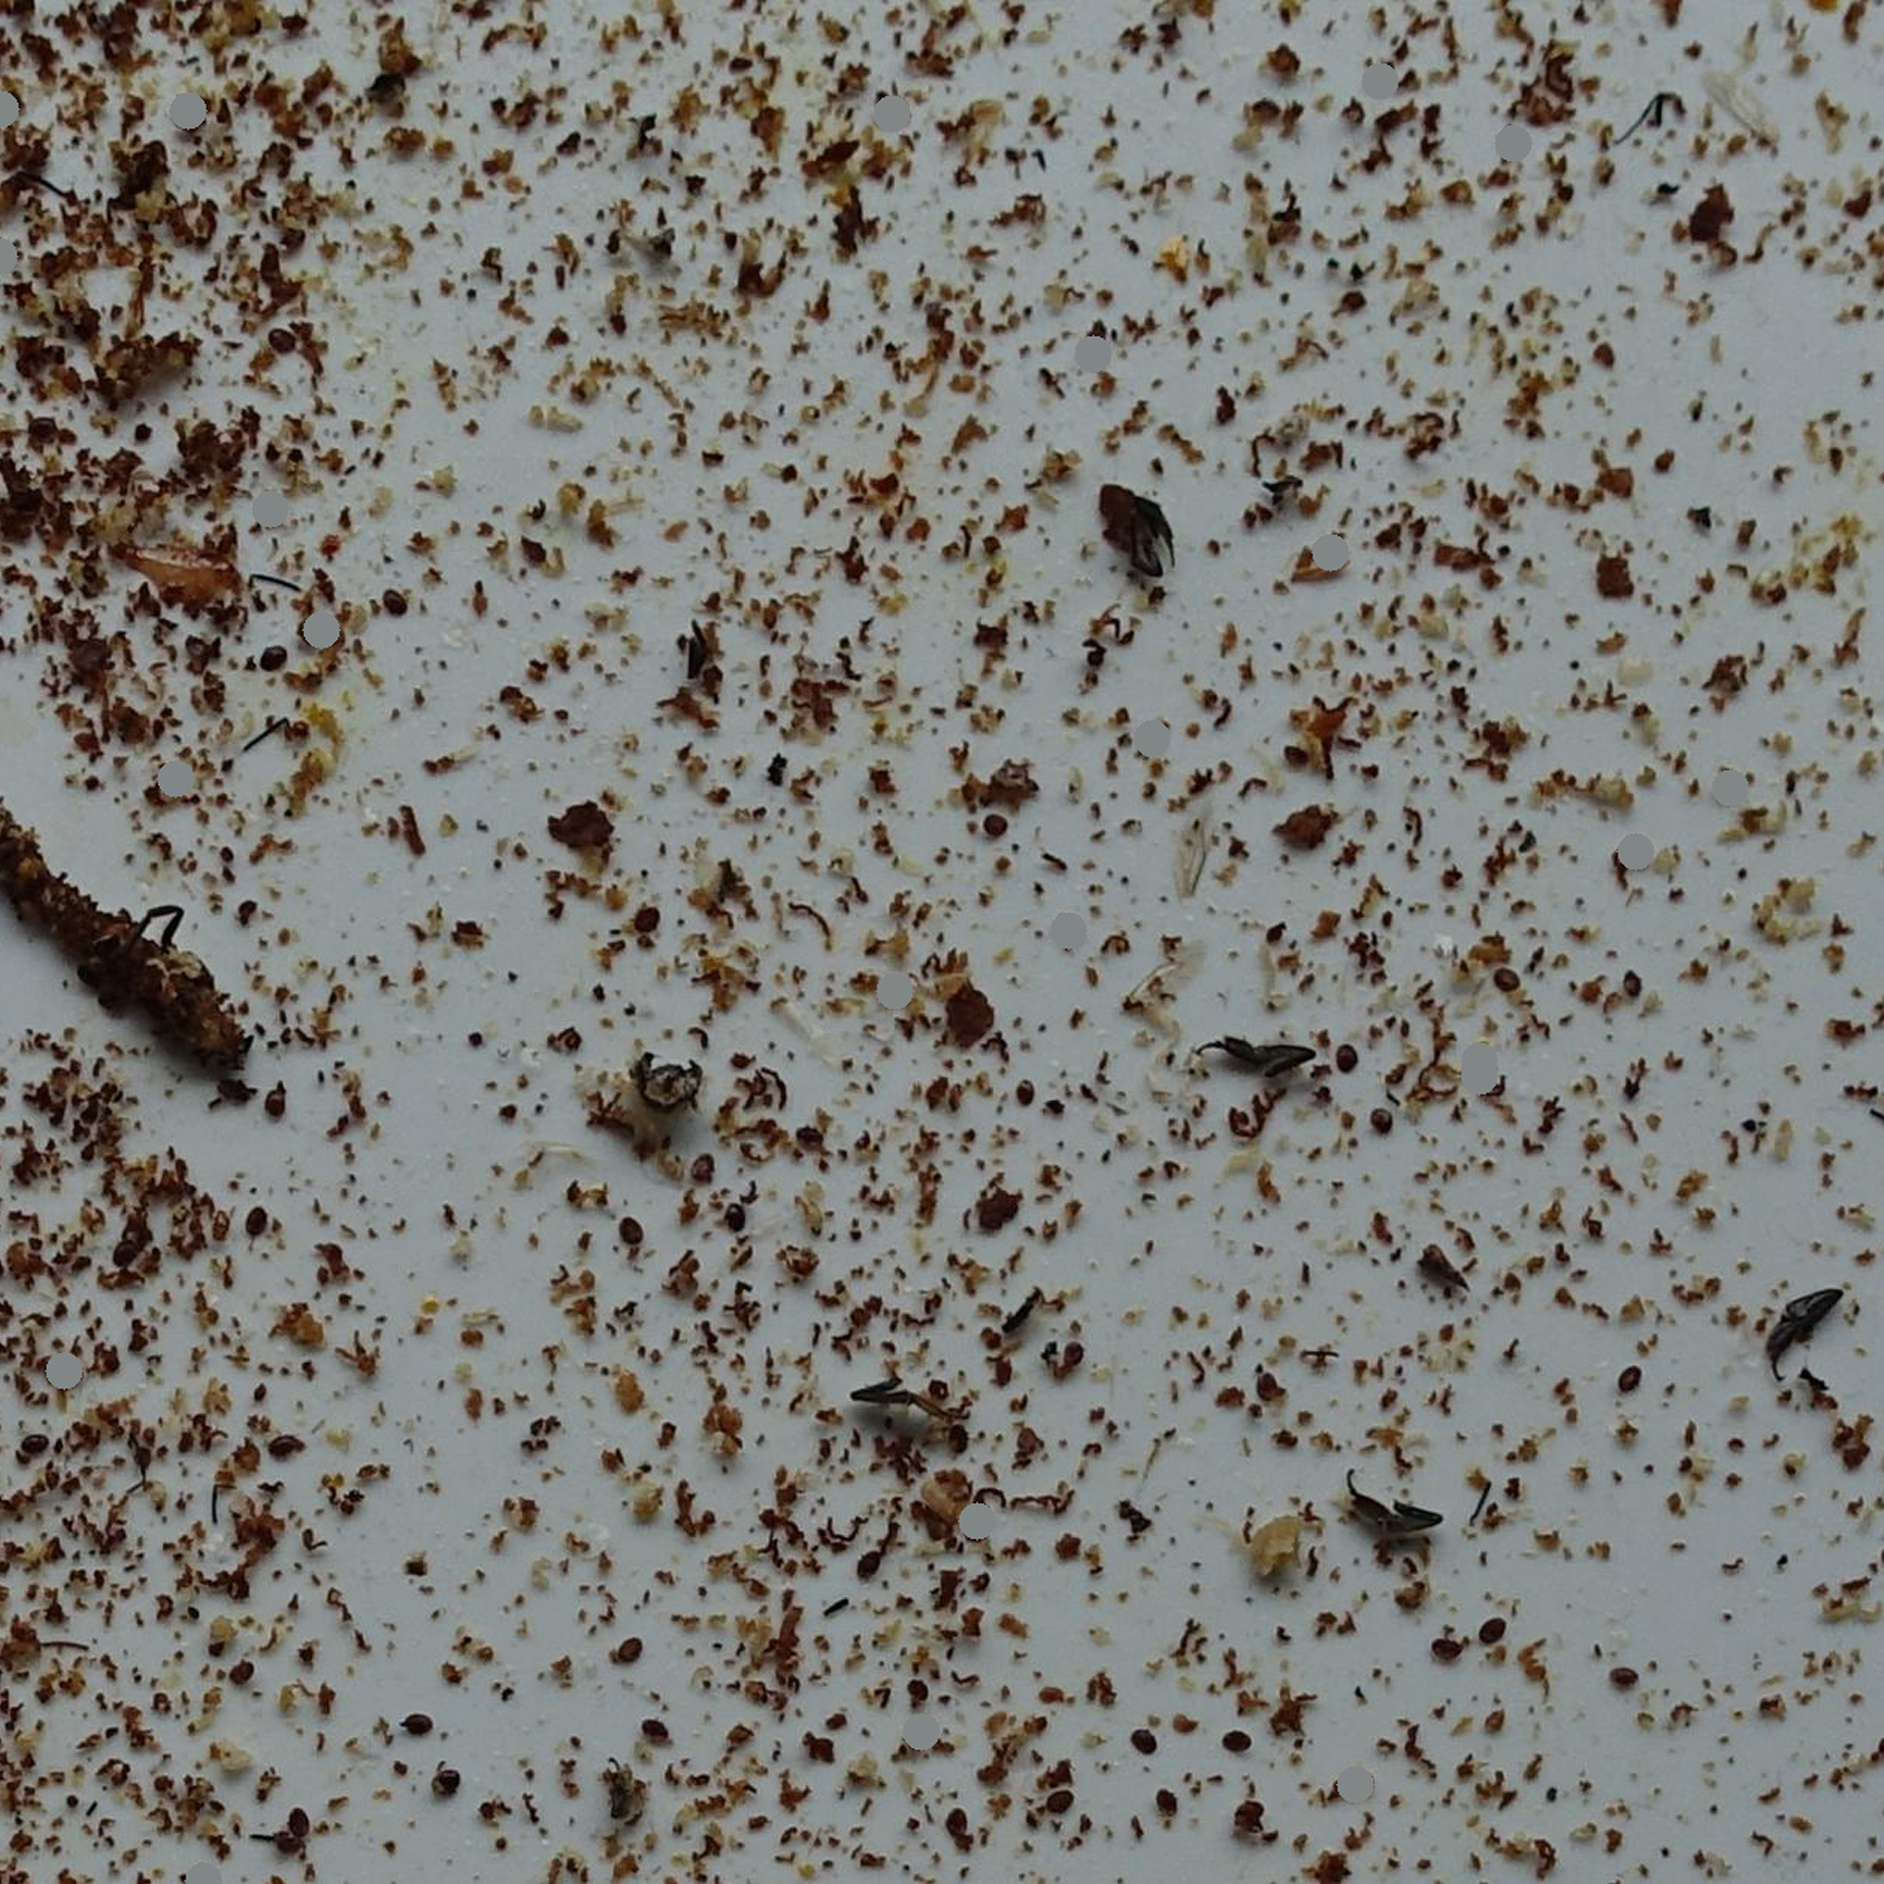Varroa: (1151, 1782, 1180, 1812), (612, 1639, 642, 1668), (619, 1221, 647, 1251), (1237, 1801, 1266, 1829), (1285, 744, 1313, 771), (28, 412, 55, 440), (221, 1661, 250, 1687), (1499, 968, 1525, 995), (1487, 1611, 1515, 1637), (1251, 100, 1278, 126), (799, 1125, 823, 1154), (271, 330, 297, 355), (1427, 1637, 1453, 1663), (273, 1435, 297, 1463), (945, 1423, 970, 1451), (114, 1239, 138, 1266), (285, 1813, 309, 1841), (1046, 1787, 1071, 1812), (692, 1151, 716, 1177), (725, 1206, 749, 1232), (945, 1806, 970, 1832), (902, 1675, 928, 1699), (856, 1553, 880, 1579), (1061, 1339, 1085, 1365), (633, 907, 659, 932), (1622, 975, 1646, 1001), (1611, 1663, 1636, 1687), (262, 1090, 286, 1115), (1135, 1725, 1159, 1749), (407, 1711, 430, 1737), (435, 1768, 457, 1794), (1013, 1082, 1039, 1104), (245, 1209, 267, 1235), (1251, 1377, 1277, 1399), (262, 649, 286, 671), (638, 1724, 661, 1748), (1618, 1368, 1641, 1391), (22, 1434, 45, 1456), (983, 811, 1006, 833), (1368, 1109, 1391, 1132), (1227, 1724, 1244, 1751), (381, 590, 404, 611), (1339, 1047, 1358, 1070)
